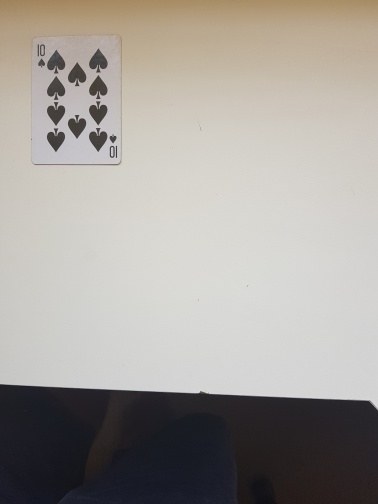ten: (31, 35, 121, 165)
